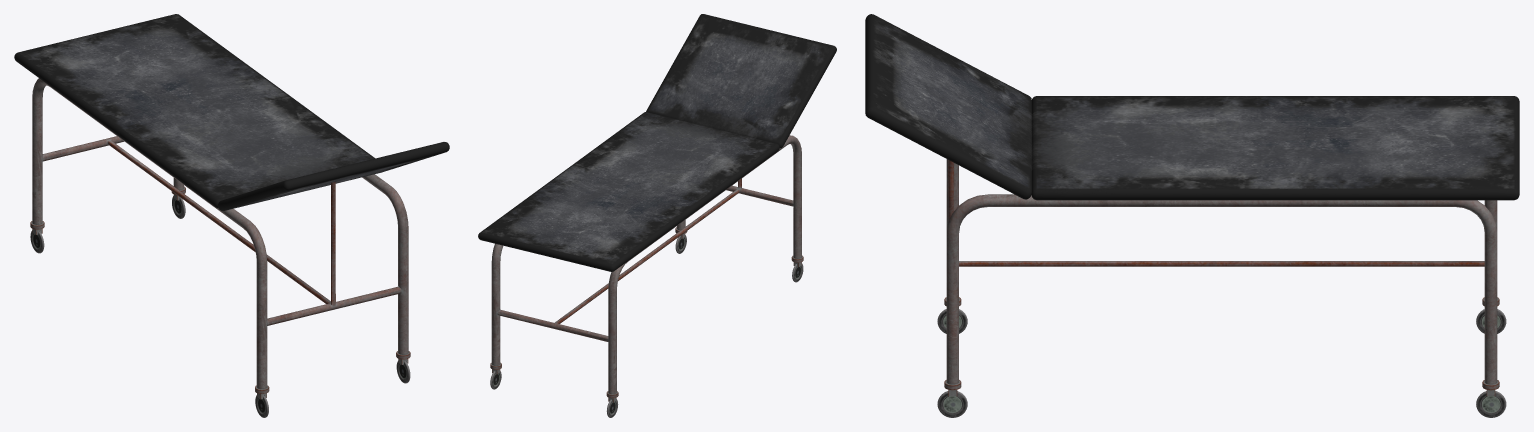
File: post_apocalyptic_examination_table.glb
The picture shows the model from 3 angles, left to right: view 1: azimuth 30°, elevation 25°; view 2: azimuth 150°, elevation 25°; view 3: azimuth 270°, elevation 25°; orthographic projection. The views are drawn at different scales.
Visible parts, largest first — view 1: SM_mattress, SM_bedframe, SM_mattress_head; view 2: SM_mattress, SM_mattress_head, SM_bedframe; view 3: SM_mattress, SM_mattress_head, SM_bedframe, SM_bed_wheels.002, SM_bed_wheels.
Part boxes in pixels (bbox=[...]): SM_mattress: bbox=[14, 14, 375, 207]; SM_bedframe: bbox=[30, 78, 410, 399]; SM_mattress_head: bbox=[218, 142, 449, 210]; SM_mattress: bbox=[478, 112, 779, 271]; SM_mattress_head: bbox=[646, 14, 836, 148]; SM_bedframe: bbox=[490, 135, 803, 402]; SM_mattress: bbox=[1031, 96, 1519, 200]; SM_mattress_head: bbox=[865, 14, 1031, 199]; SM_bedframe: bbox=[944, 159, 1499, 396]; SM_bed_wheels.002: bbox=[937, 391, 967, 417]; SM_bed_wheels: bbox=[1476, 391, 1506, 417].
Size of the model in its own units: 109 by 166 by 311.
1 material, 1 textured.
